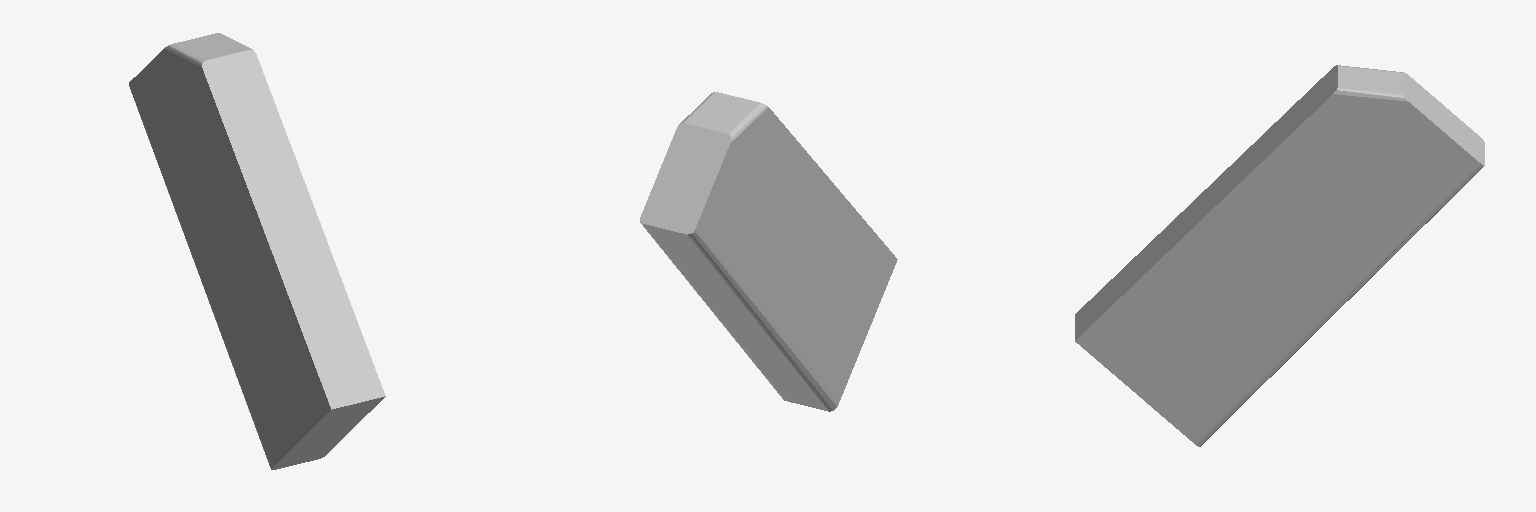
File: Carbon_Mov_Finger_021_v1_1_mesh_collision_17.obj
The picture shows the model from 3 angles: view 1: azimuth 30°, elevation 25°; view 2: azimuth 150°, elevation 25°; view 3: azimuth 270°, elevation 25°; orthographic projection.
Bounding box in the file's own units: 0.0033 × 0.0206 × 0.0213.